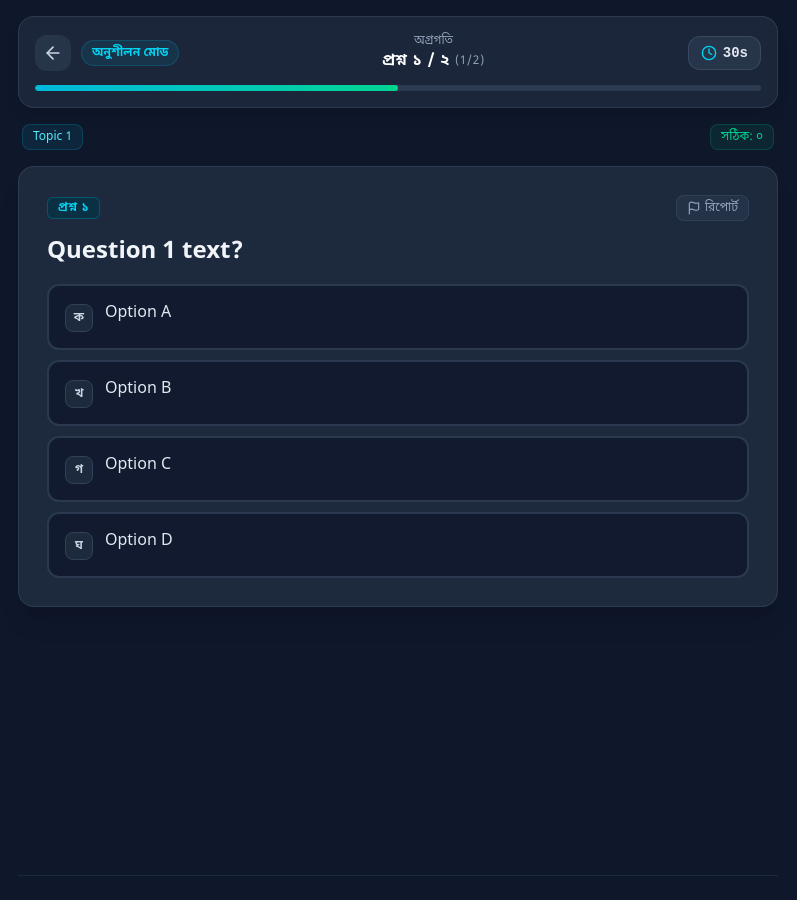
Test: Quiz Component › navigates to the next question
This screenshot has width=797, height=900.
Note: Answer first question
Click the text "Option A" at point(138, 313), box [105, 302, 171, 324]
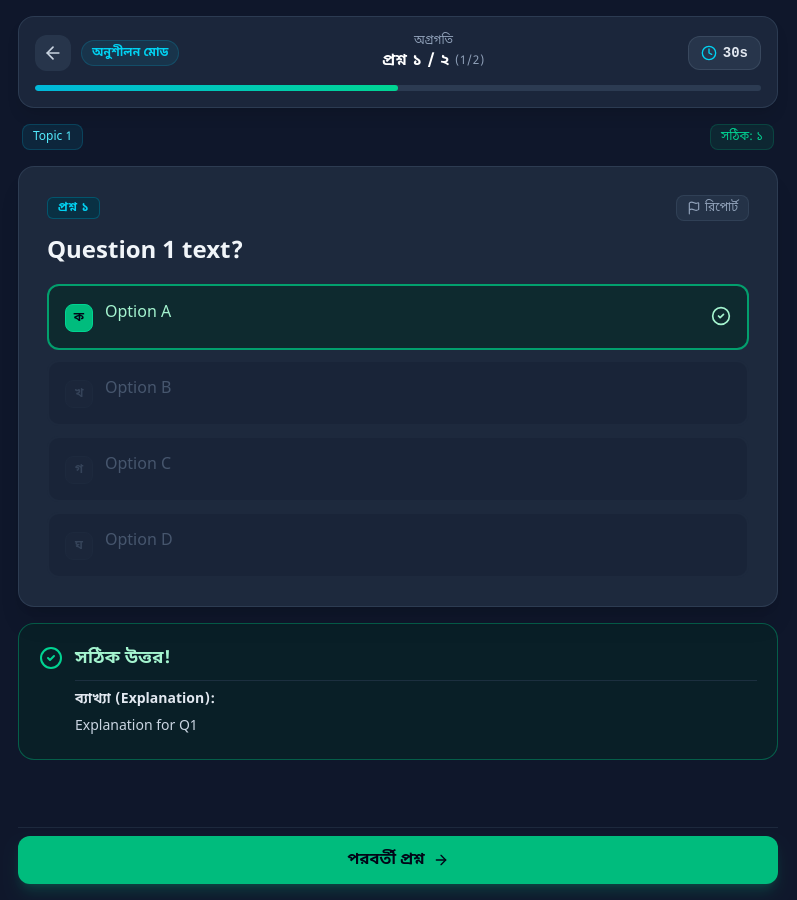
Note: Click next
Click the button "পরবর্তী প্রশ্ন" at point(398, 860), box [18, 836, 778, 884]
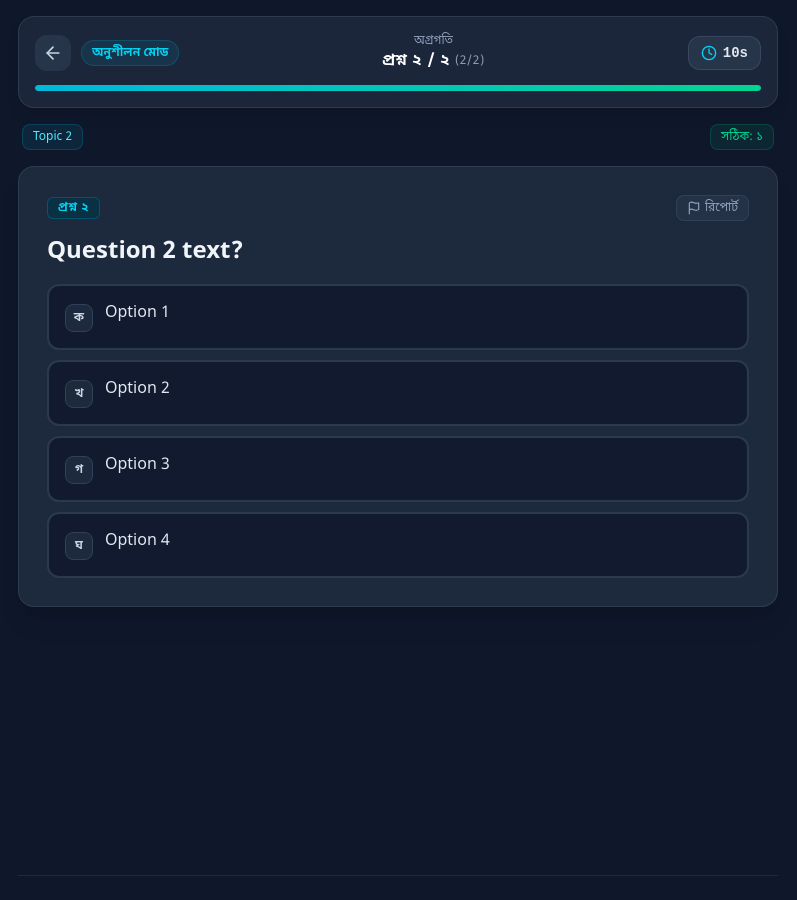
Result: the text "Question 2 text?" is shown at [47, 236, 244, 268]
Result: the text "Topic 2" is shown at [22, 124, 83, 150]
